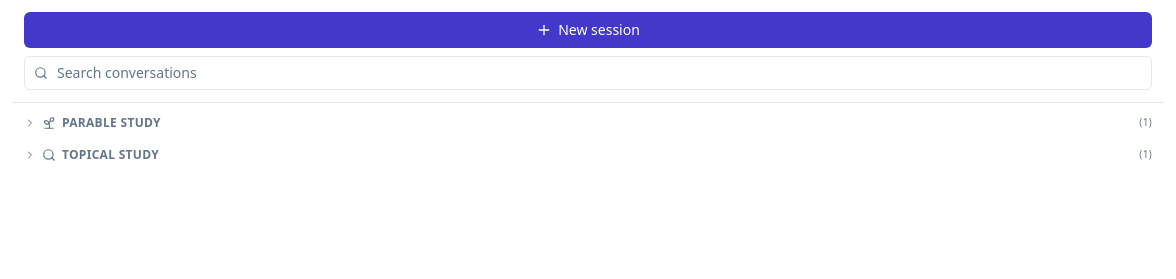
Scenario: SessionsPane › collapses sections independently of one another
Note: Both start collapsed (neither is the active session) — open both first.
What coordinates should you click on to do the following:
click the button "Parable Study (1)"
I would click on:
 (111, 122)
Its box is [12,103,1164,135].
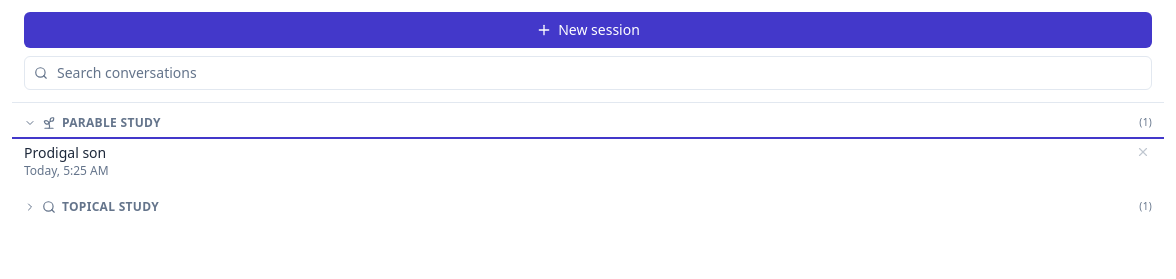
What coordinates should you click on to do the following:
click the button "Topical Study (1)"
I would click on:
 (111, 206)
Its box is [12,187,1164,219].
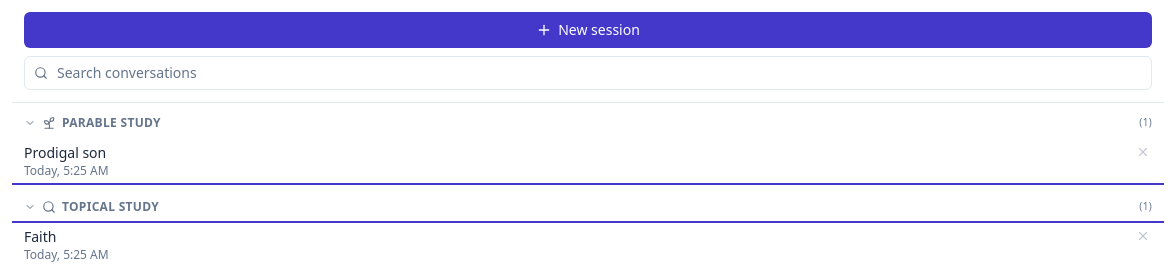
Expected: the text "Prodigal son" is shown, [24,143,109,163]
Expected: the text "Faith" is shown, [24,227,56,246]
What coordinates should you click on to do the following:
click the button "Parable Study (1)"
I would click on:
 (111, 122)
Its box is [12,103,1164,135].
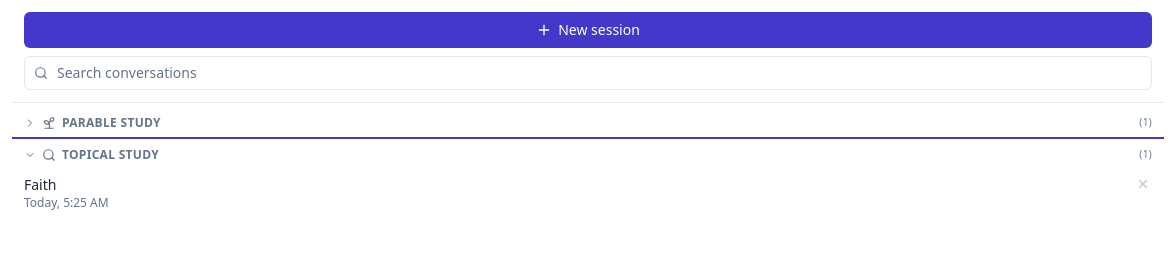
Expected: the text "Faith" is shown, [24,175,56,194]
Expected: the text "Prodigal son" is gone
